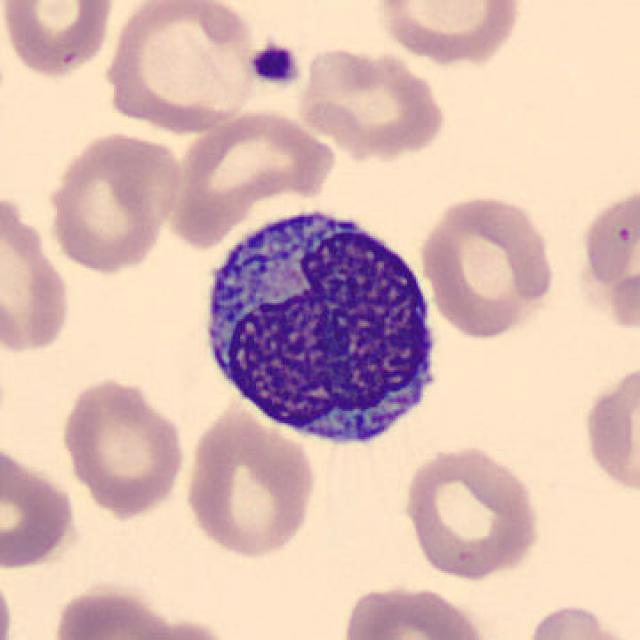Lymphocyte: (191, 194, 454, 457)
Platelets: (247, 41, 304, 88)
RBC: (164, 106, 338, 250), (181, 398, 320, 562), (100, 0, 262, 136), (416, 190, 560, 340), (43, 127, 185, 277), (398, 441, 544, 582), (57, 372, 190, 518), (295, 42, 450, 162), (0, 187, 75, 360), (570, 178, 640, 340), (0, 441, 80, 573), (372, 0, 524, 69), (0, 0, 117, 81), (338, 580, 494, 640), (578, 358, 638, 499), (49, 580, 180, 640), (519, 599, 638, 640), (132, 615, 240, 640), (0, 562, 16, 640)
